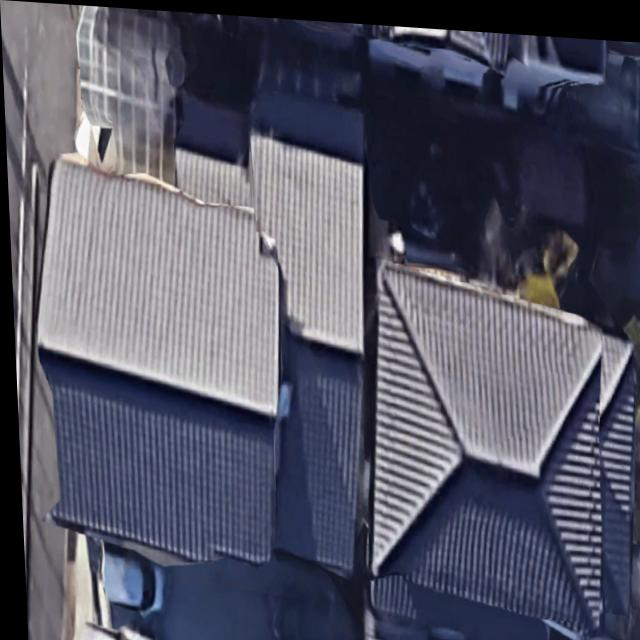Batiment: (36, 129, 361, 571), (366, 259, 633, 632)
